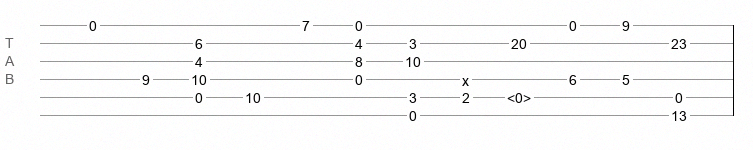0: (89, 18, 97, 28), (195, 90, 203, 100), (355, 18, 363, 28), (355, 72, 363, 82), (409, 108, 417, 118), (569, 18, 577, 28), (675, 90, 683, 100)
10: (191, 72, 207, 82), (245, 90, 261, 100), (405, 54, 421, 64)
13: (671, 108, 687, 118)
2: (462, 90, 470, 100)
20: (511, 36, 527, 46)
23: (671, 36, 687, 46)
3: (409, 36, 417, 46), (409, 90, 417, 100)
4: (195, 54, 203, 64), (355, 36, 363, 46)
5: (622, 72, 630, 82)
6: (195, 36, 203, 46), (569, 72, 577, 82)
7: (302, 18, 310, 28)
8: (355, 54, 363, 64)
9: (142, 72, 150, 82), (622, 18, 630, 28)
harmonic: (507, 90, 531, 100)
x: (462, 73, 469, 81)
